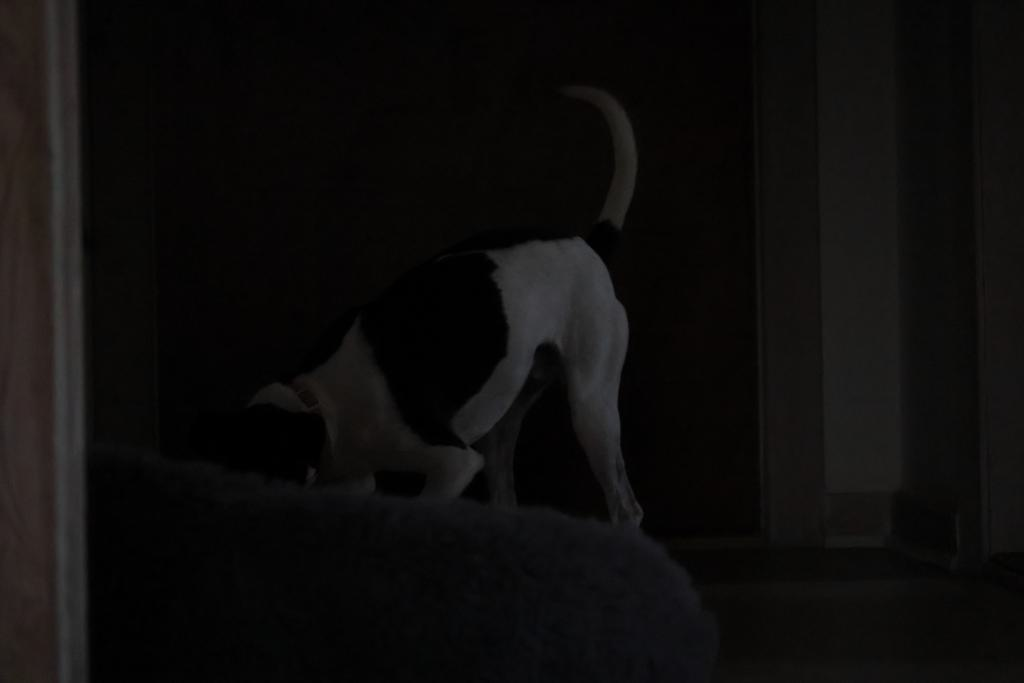Dog: (178, 71, 661, 546)
